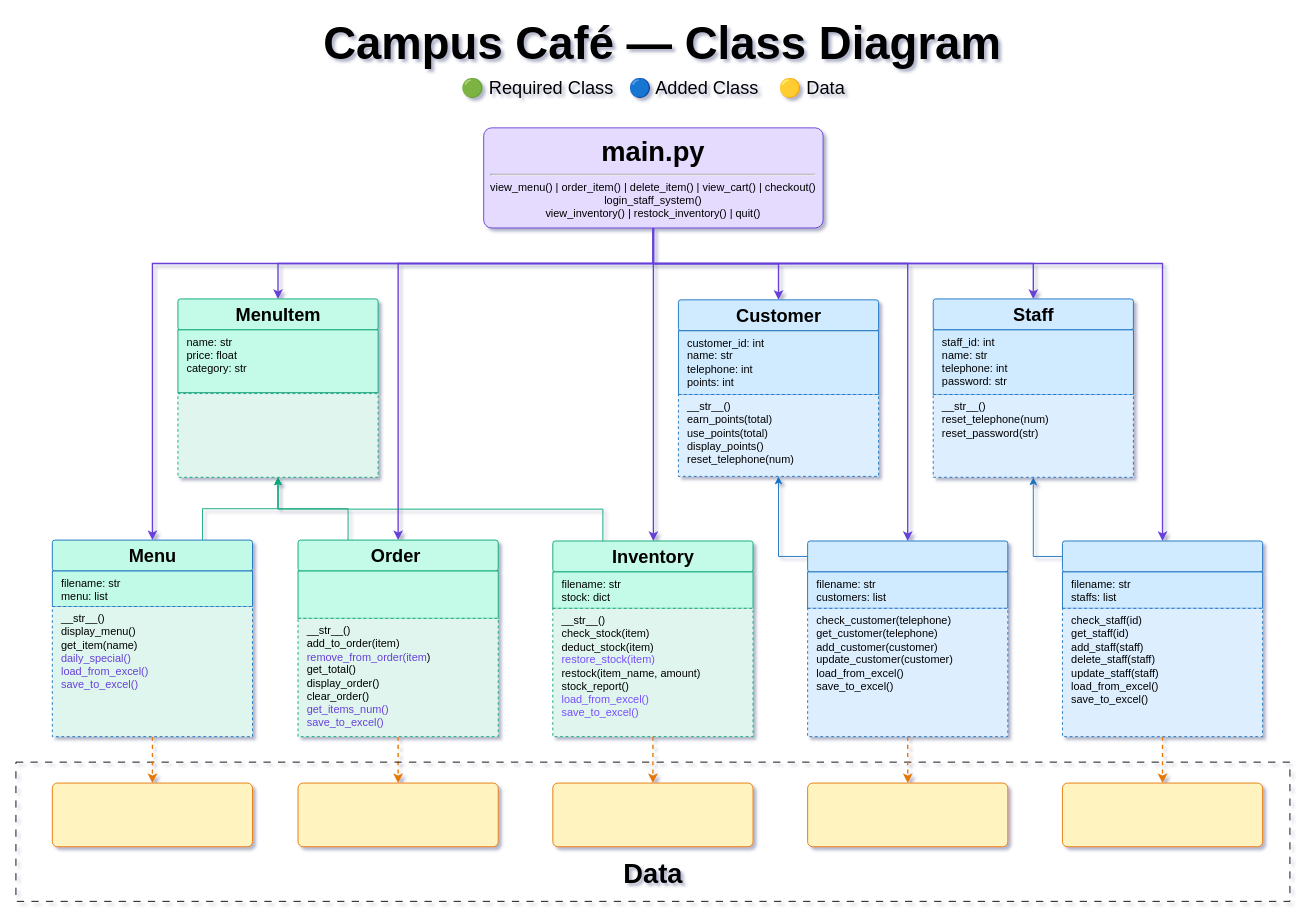
This 1311x923 diagram has some shape labels left out. Each missing label, with the centre of its shape:
"__str__()" goes at point (277, 435).
"Customers" goes at point (907, 556).
"Customers.xlsx customer_id | name | points" goes at point (907, 814).
"filename: str items: list TAX_RATE: float" goes at point (397, 594).
"Inventory.xlsx item_name | quantity" goes at point (652, 814).
"Menu.xlsx item_id | item_name | price" goes at point (152, 814).
"Orders.xlsx order_id | customer_id items | total | time" goes at point (397, 814).
"Staffs" goes at point (1162, 556).
"Staffs.xlsx staff_id | name | password" goes at point (1162, 814).
